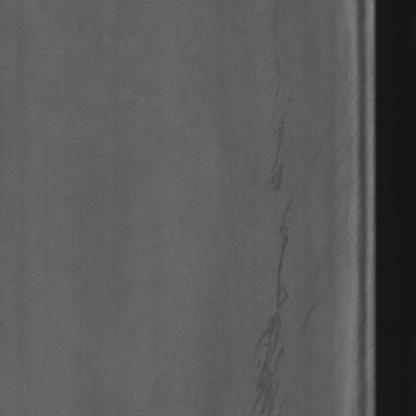water_spot: (235, 110, 304, 413)
